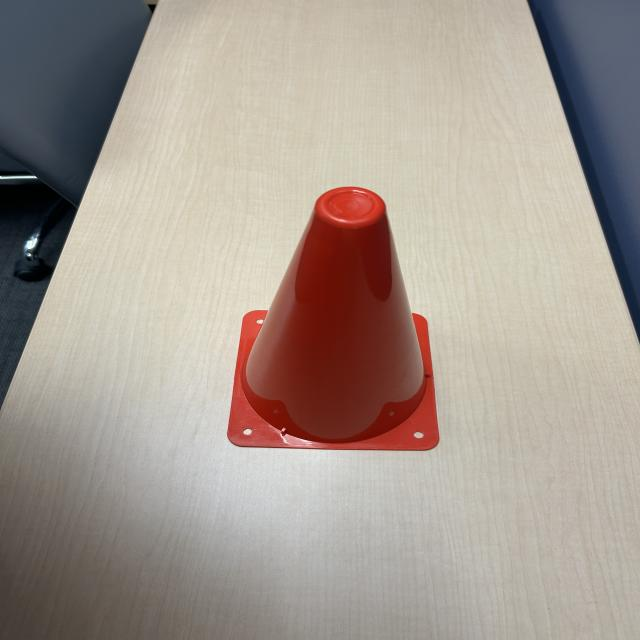orange cone: (208, 181, 450, 455)
